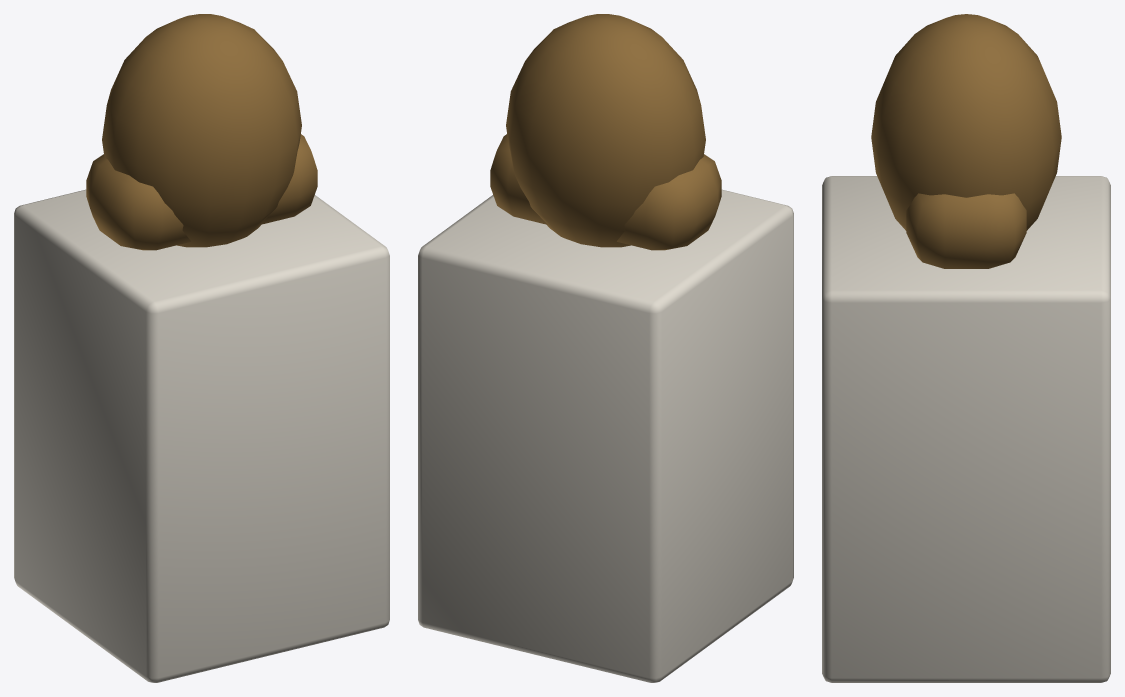
The model's file is sculpture.gltf.
3 views of the same model, side by side, from view 1: azimuth 30°, elevation 25°; view 2: azimuth 150°, elevation 25°; view 3: azimuth 270°, elevation 25° (orthographic). The views are drawn at different scales.
Parts seen in each view (by area): view 1: sculpture_mesh; view 2: sculpture_mesh; view 3: sculpture_mesh.
Boxes of the visible parts, x1,y1,x2,y2 form: sculpture_mesh: (14,14,389,682); sculpture_mesh: (418,14,793,682); sculpture_mesh: (822,14,1110,682).
Bounding box in the file's own units: 0.6 × 1.38 × 0.6.
